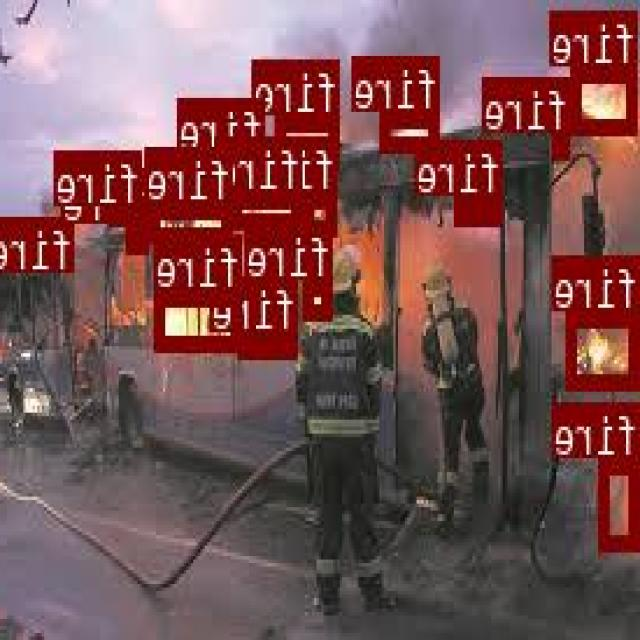fire: (568, 311, 640, 385), (157, 287, 242, 347), (574, 66, 640, 131), (600, 457, 640, 548), (152, 200, 233, 241), (278, 114, 340, 165), (234, 190, 304, 224), (383, 108, 440, 148), (241, 330, 300, 354), (306, 190, 338, 234), (34, 217, 76, 250), (456, 194, 504, 222), (307, 278, 333, 317), (245, 154, 268, 186), (111, 203, 143, 223), (129, 222, 149, 249), (554, 131, 570, 157)
